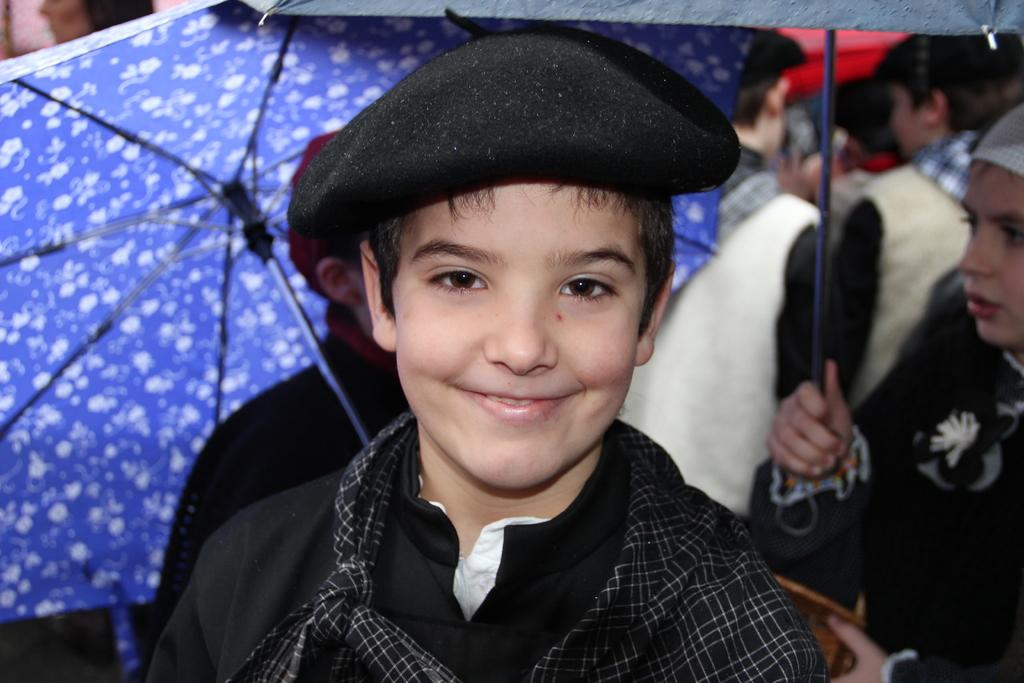Hat: (285, 26, 741, 240)
